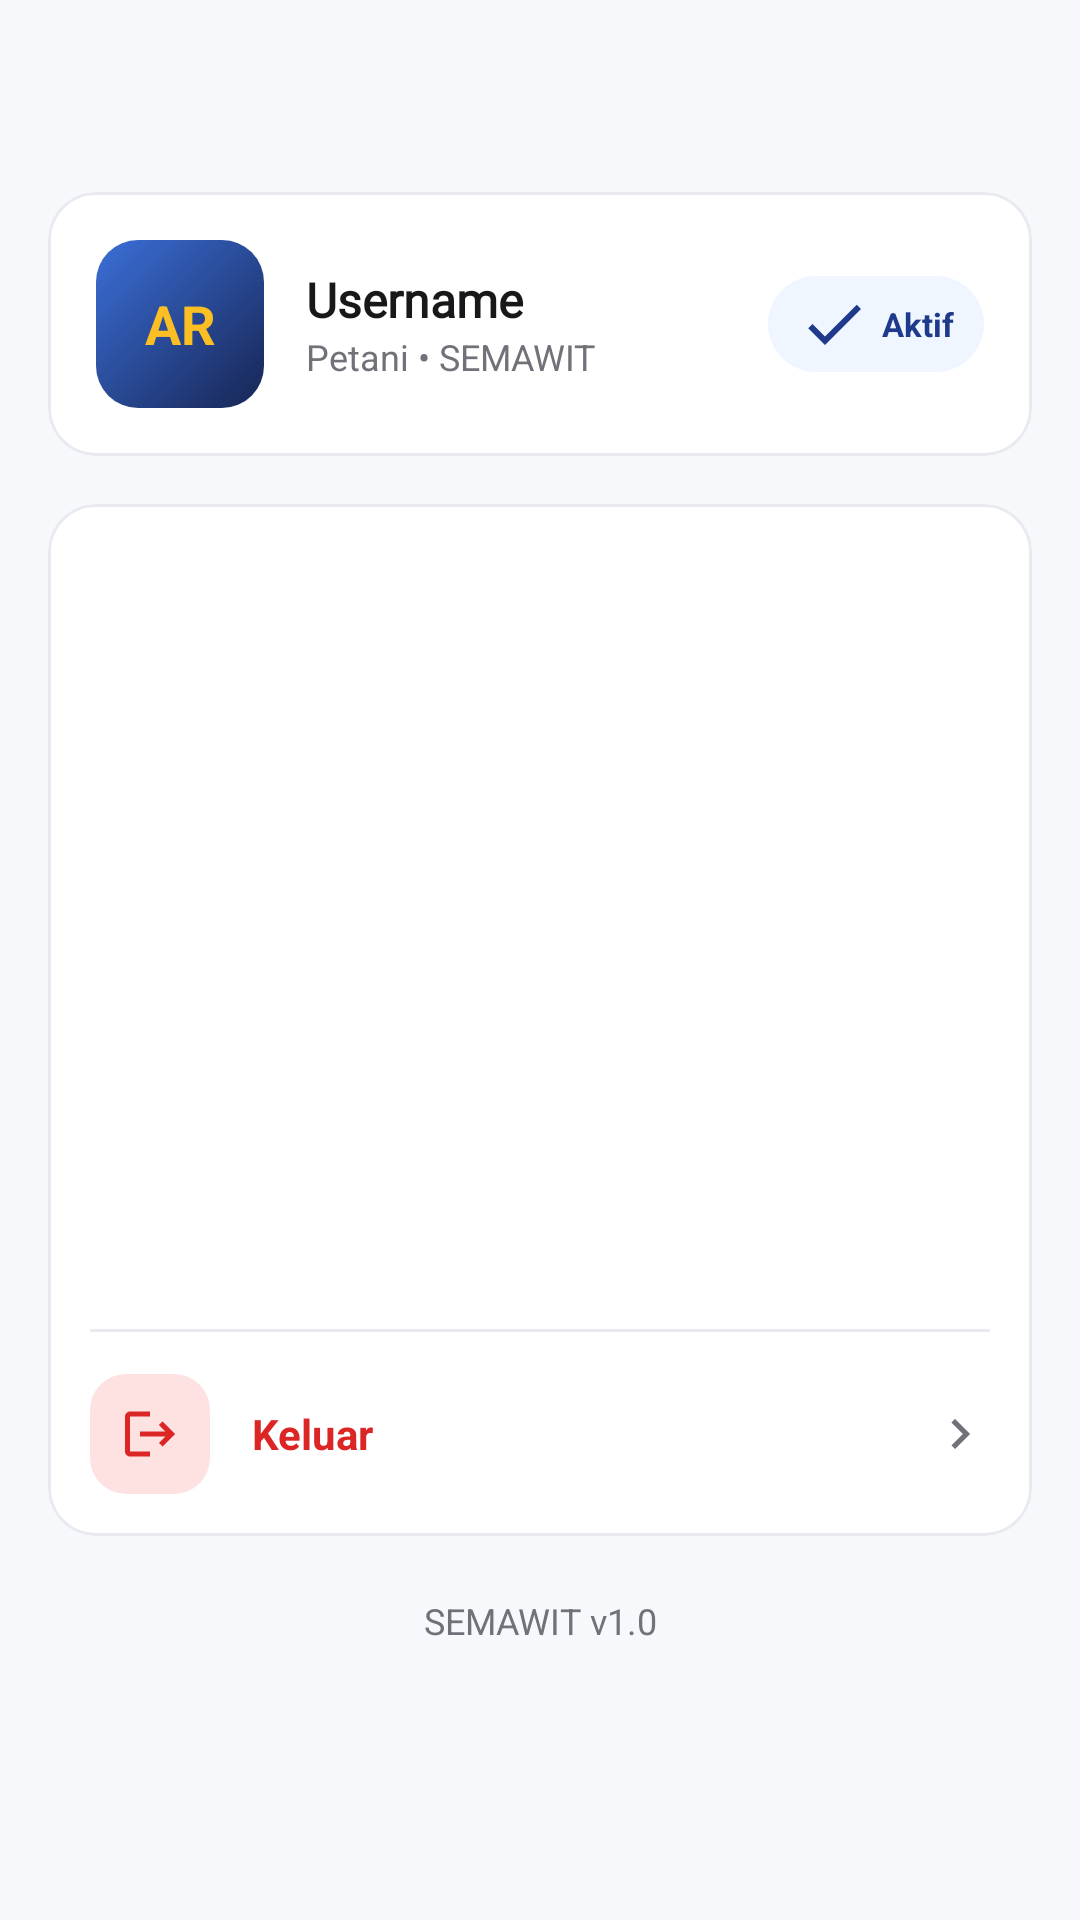

Screen size 1080 x 1920. Icon name, then its box in pixels as (x1, y1, x2, y2):
chevron right: (951, 1419, 970, 1449)
